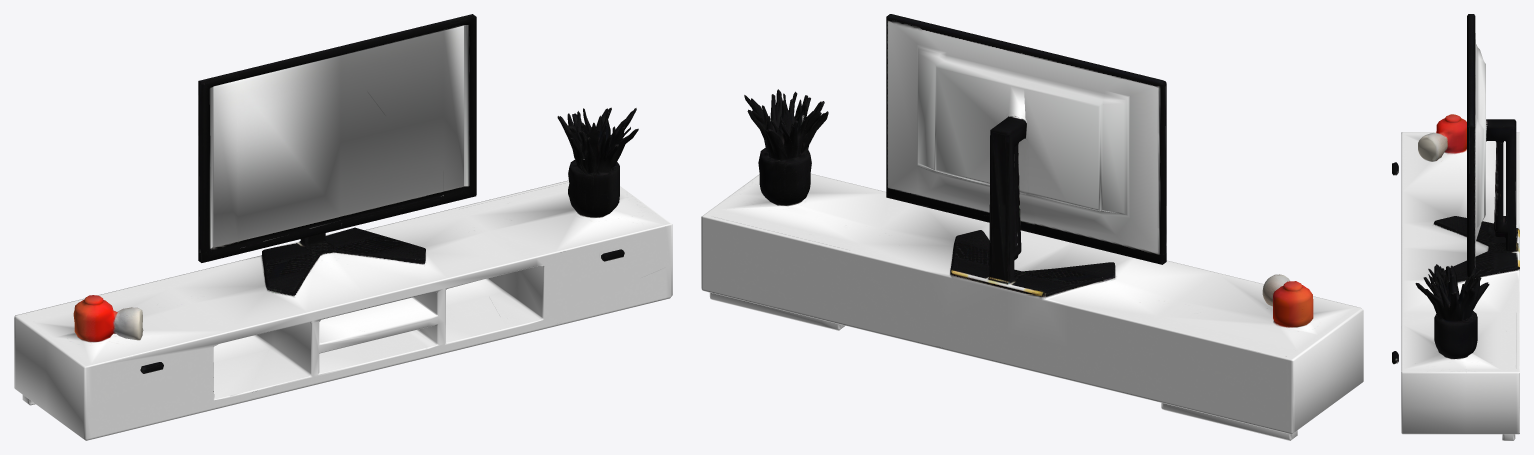
Rendered from Meshy_AI_A_stylized_low_poly_T_0428225949_texture.fbx.
3 renders of one model, left to right at view 1: azimuth 30°, elevation 25°; view 2: azimuth 150°, elevation 25°; view 3: azimuth 270°, elevation 25°, orthographic. The views are drawn at different scales.
Parts seen in each view (by area): view 1: Mesh_0; view 2: Mesh_0; view 3: Mesh_0.
Part boxes in pixels (x1=…): Mesh_0: x1=14, y1=14, x2=672, y2=440; Mesh_0: x1=701, y1=14, x2=1363, y2=440; Mesh_0: x1=1392, y1=14, x2=1519, y2=440.
Size of the model in its own units: 191 by 93.54 by 42.66.
1 material, 1 textured.
